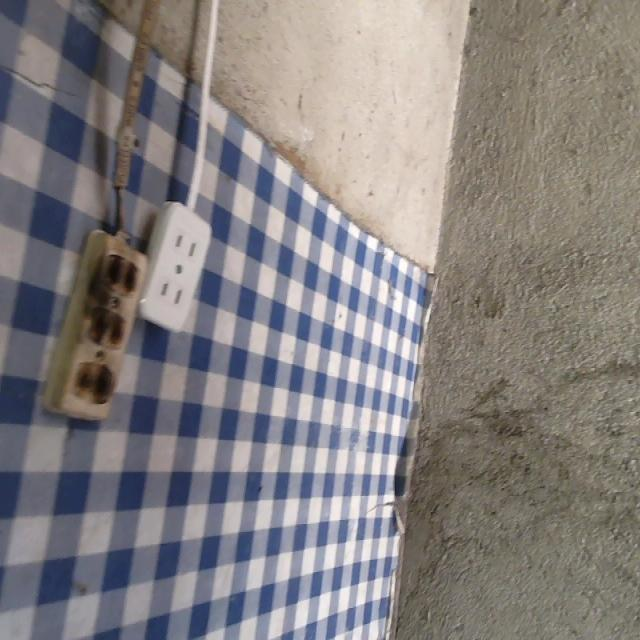-: (95, 246, 137, 298), (88, 296, 125, 349), (77, 360, 112, 405)
